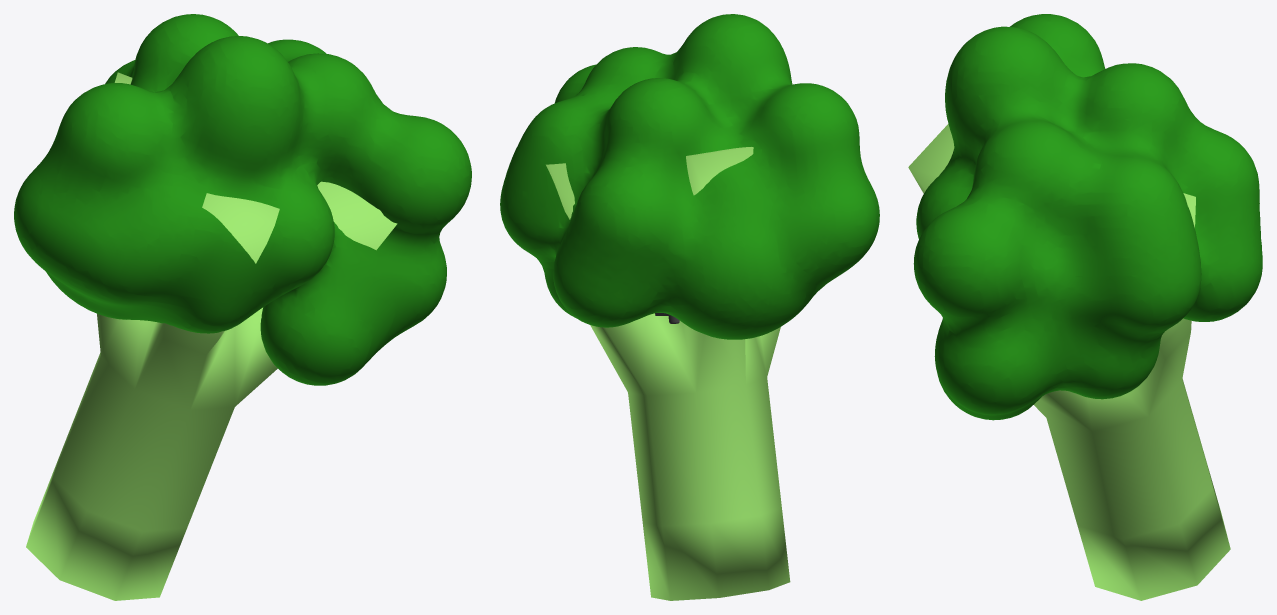
Rendered from Broccoli.glb.
3 views of the same model, side by side, from view 1: azimuth 30°, elevation 25°; view 2: azimuth 150°, elevation 25°; view 3: azimuth 270°, elevation 25° (orthographic). The views are drawn at different scales.
Visible parts, largest first — view 1: Mball.024, Cylinder.002; view 2: Mball.024, Cylinder.002; view 3: Mball.024, Cylinder.002.
Part boxes in pixels (x1,y1,x2,y2): Mball.024: (14, 14, 471, 385); Cylinder.002: (26, 72, 397, 600); Mball.024: (500, 14, 879, 339); Cylinder.002: (546, 147, 790, 600); Mball.024: (913, 14, 1262, 420); Cylinder.002: (908, 124, 1230, 600).
Size of the model in its own units: 5.85 by 8.27 by 4.66.
